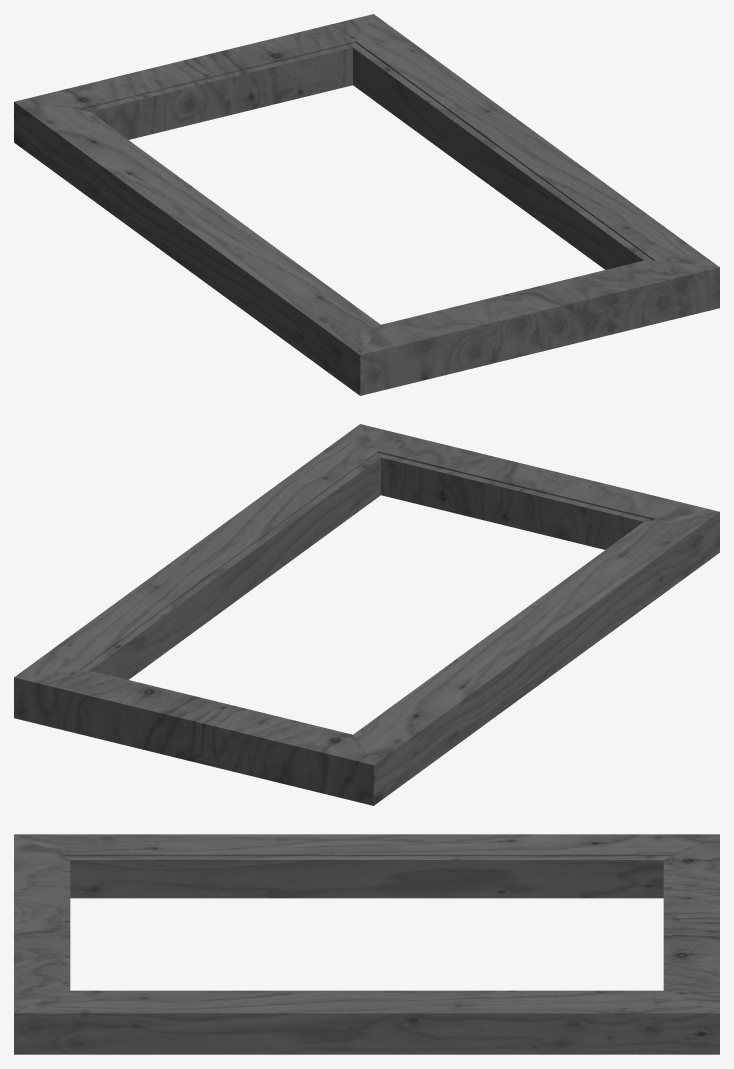
The model's file is Raam-grijs.dae.
3 renders of one model, top to bottom at view 1: azimuth 30°, elevation 25°; view 2: azimuth 150°, elevation 25°; view 3: azimuth 270°, elevation 25°, orthographic.
Parts seen in each view (by area): view 1: Raam_geo; view 2: Raam_geo; view 3: Raam_geo.
Part boxes in pixels (x1,y1,x2,y2): Raam_geo: [14, 14, 719, 395]; Raam_geo: [14, 424, 719, 805]; Raam_geo: [14, 834, 719, 1054].
Bounding box in the file's own units: 30 × 3.25 × 50.
Materials: 1 (1 with a texture image).
